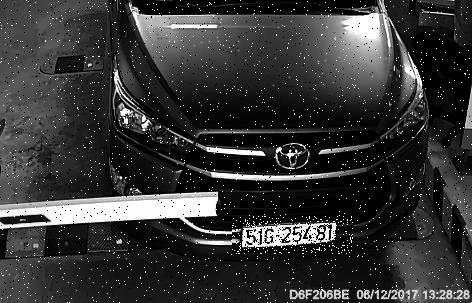License-plate: (233, 218, 354, 256)
